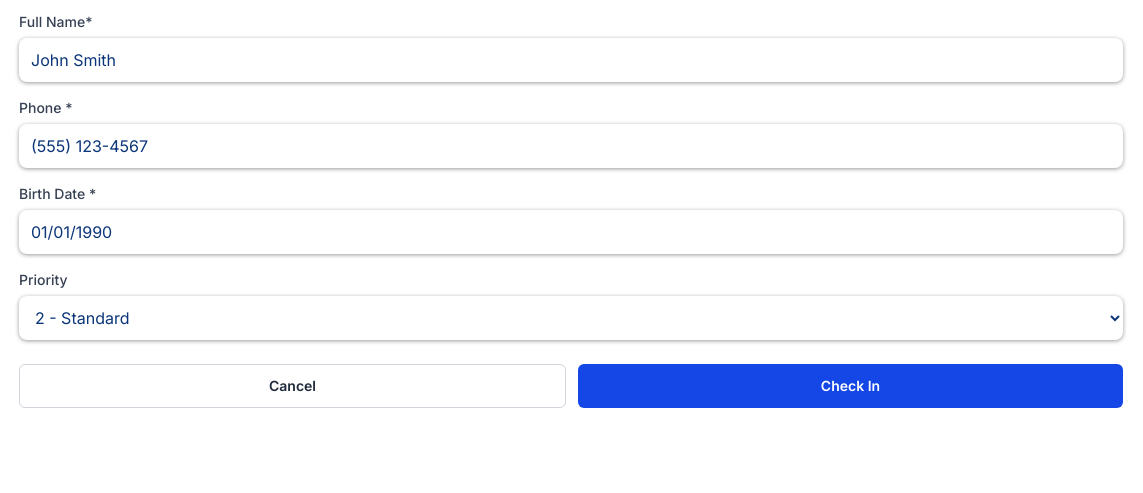
NewPatientCheckInForm › validates birth date is required
The image size is (1143, 493).
// Clear birth date field
Clear the field showing "01/01/1990" at (571, 232), box [19,210,1123,254]
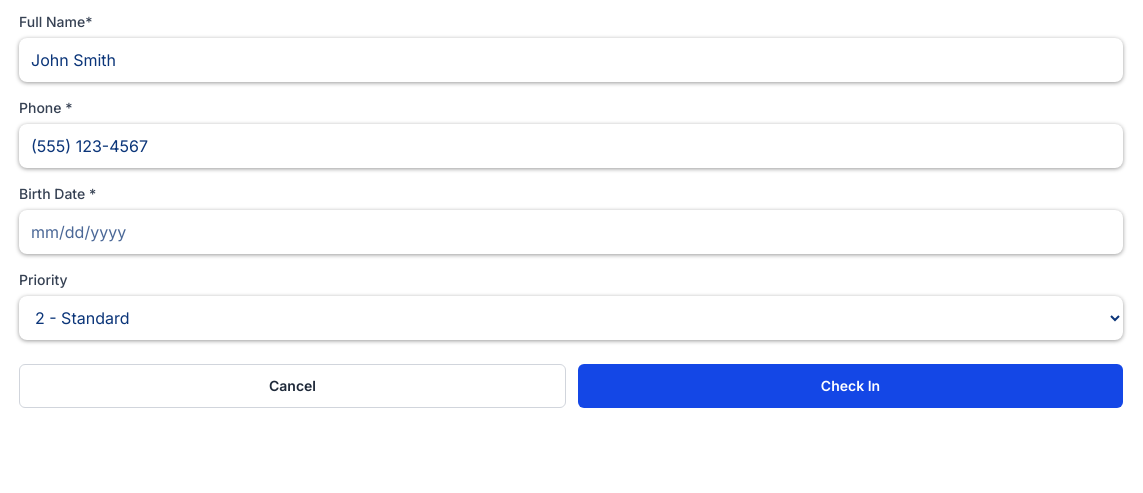
// Try to submit
Click the button "Check In" at (850, 386), box [578,364,1123,408]
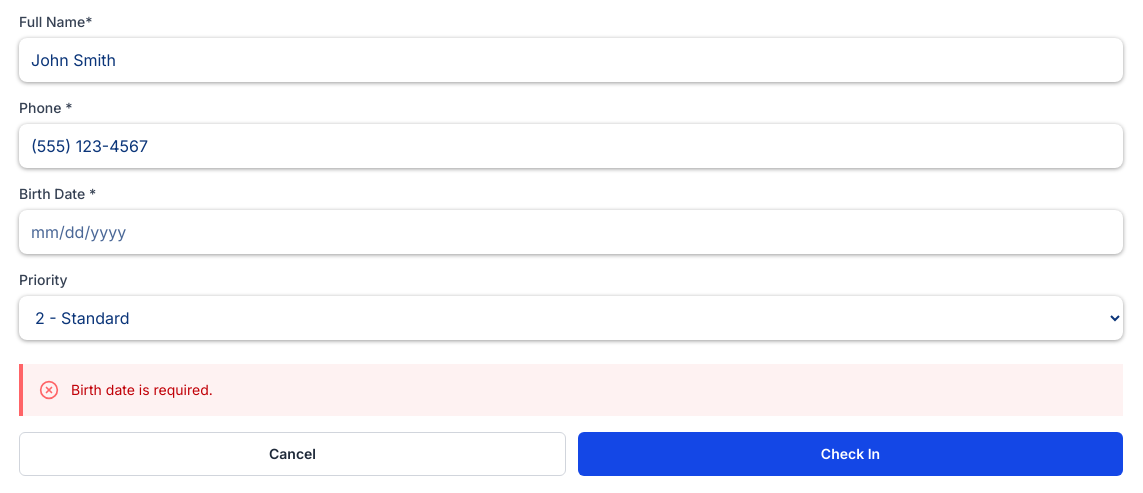
Result: the text "Birth date is required." is shown at [71,381,213,398]
